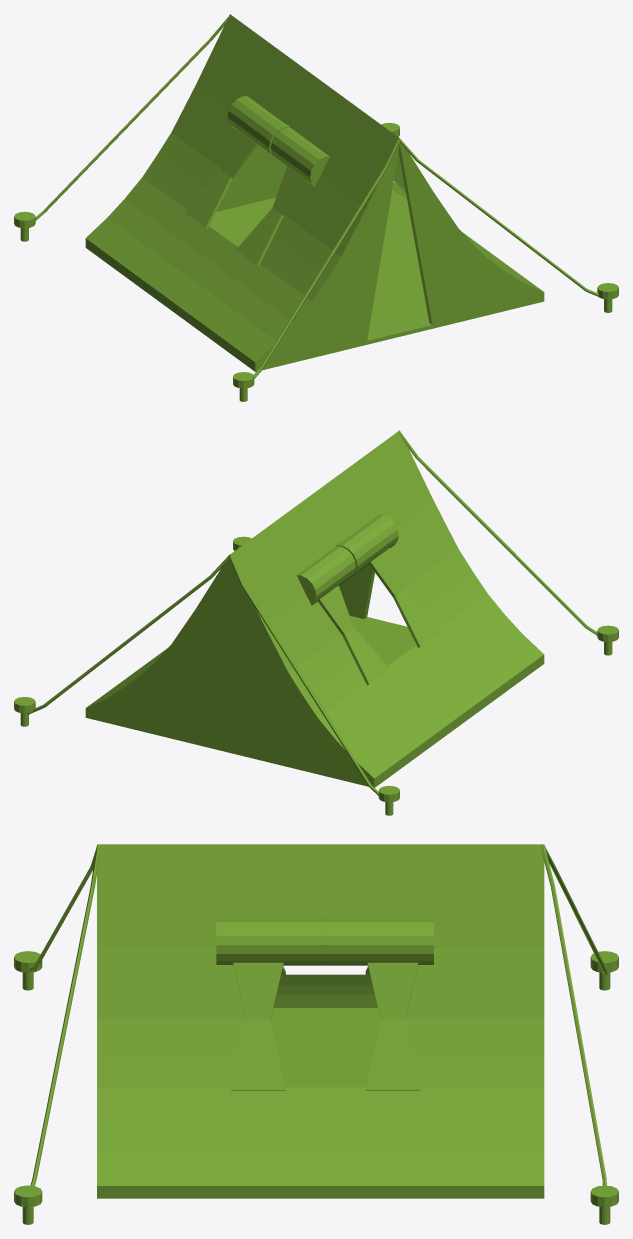
The model's file is Tent.fbx.
3 views of the same model, one above another, from view 1: azimuth 30°, elevation 25°; view 2: azimuth 150°, elevation 25°; view 3: azimuth 270°, elevation 25° (orthographic). The views are drawn at different scales.
Visible parts, largest first — view 1: Carpa; view 2: Carpa; view 3: Carpa.
Boxes of the visible parts, box(x1,y1,x2,y2) form: Carpa: box(14, 14, 618, 401); Carpa: box(14, 430, 618, 815); Carpa: box(14, 844, 618, 1224).
Size of the model in its own units: 2123 by 1050 by 2203.
